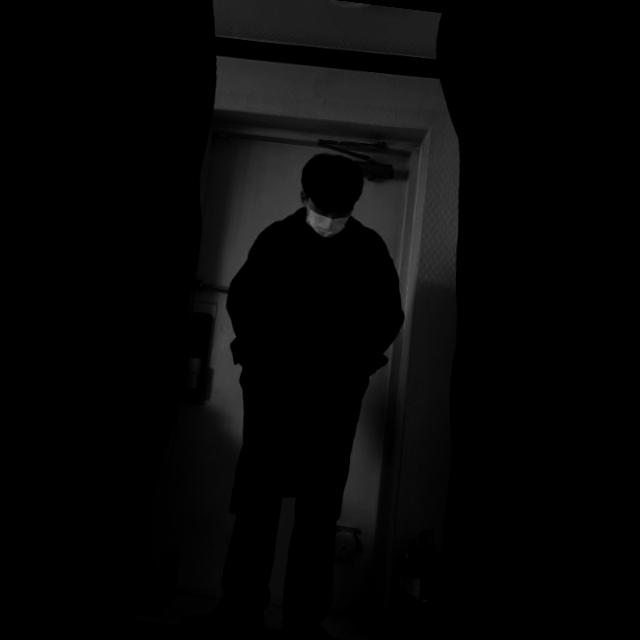coat: (200, 200, 415, 534)
slacks: (216, 323, 368, 633)
